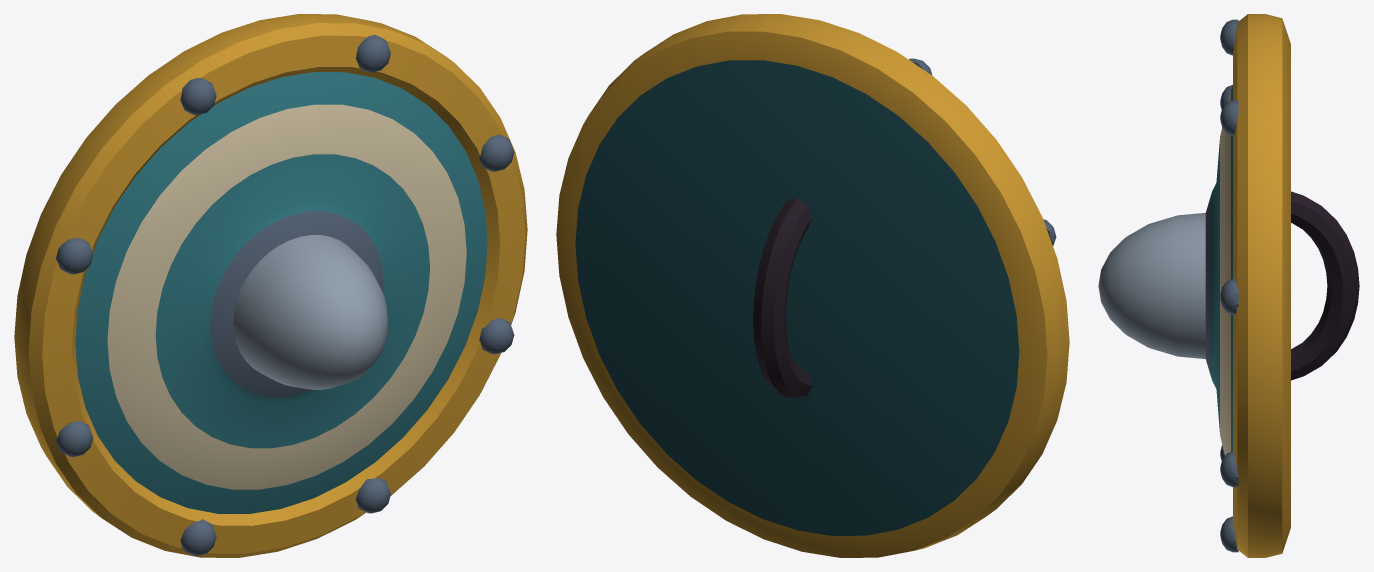
File: RoundShield_21.glb
The picture shows the model from 3 angles, left to right: view 1: azimuth 30°, elevation 25°; view 2: azimuth 150°, elevation 25°; view 3: azimuth 270°, elevation 25°; orthographic projection. The views are drawn at different scales.
Parts seen in each view (by area): view 1: RoundShield_21; view 2: RoundShield_21; view 3: RoundShield_21.
Part boxes in pixels (x1=…): RoundShield_21: x1=14, y1=14, x2=527, y2=557; RoundShield_21: x1=556, y1=14, x2=1069, y2=557; RoundShield_21: x1=1098, y1=14, x2=1359, y2=557.
Bounding box in the file's own units: 2.54 × 2.54 × 1.22.
